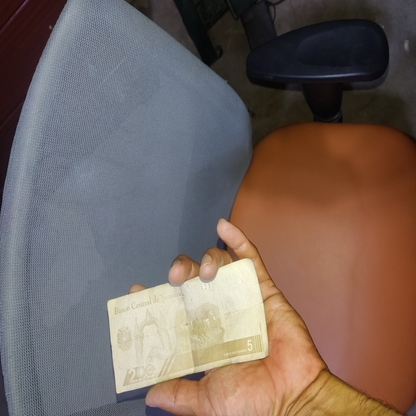five-back-vef: (107, 258, 269, 393)
